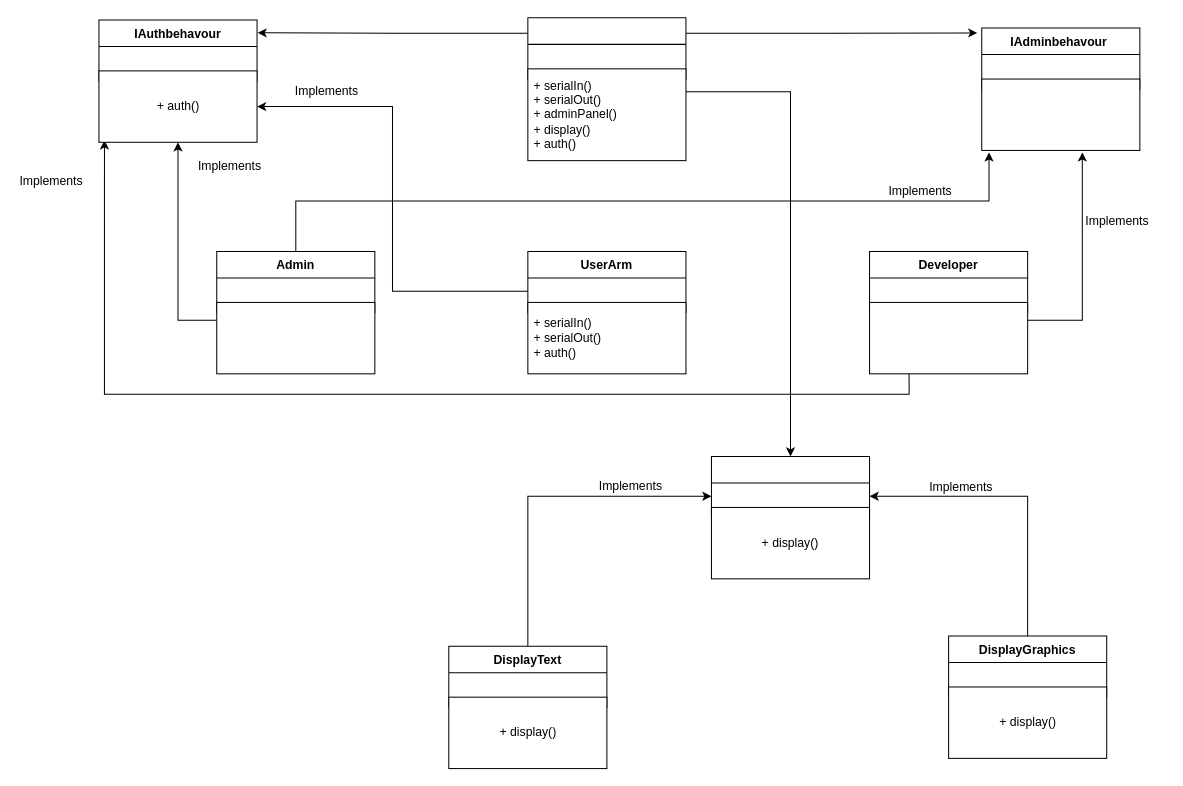
Some shapes in this 1183 by 786 pixel diagram are drawn without their labels. Here are the shapes that lost their labels. From the top down, the centre of each, then its label:
At [606,48]: "User".
At [1060,114]: "+ adminPanel()".
At [295,337]: "+ auth() + adminPanel()".
At [948,337]: "+ auth() + adminPanel() + editData()".
At [790,486]: "IDisplaybehavour".
